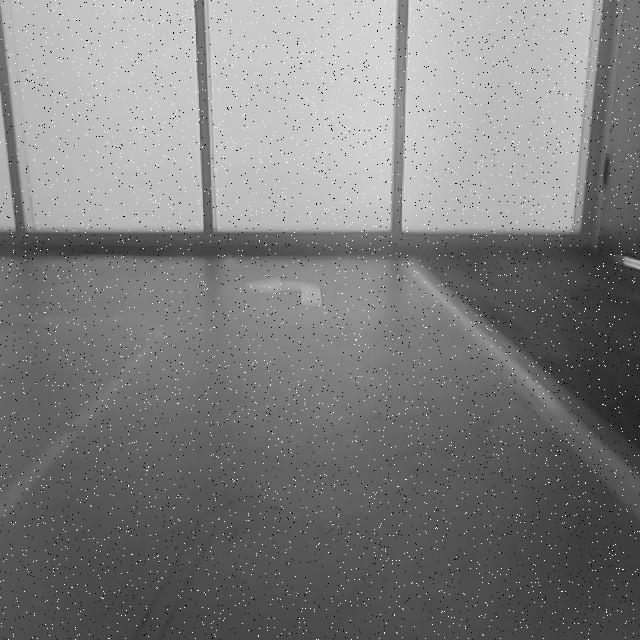left_lane: (2, 340, 161, 522)
right_lane: (406, 267, 640, 520)
